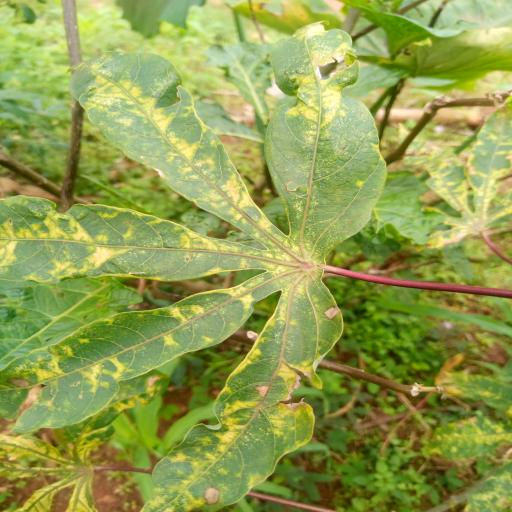Cassava_Mosaic: (0, 2, 390, 508)
